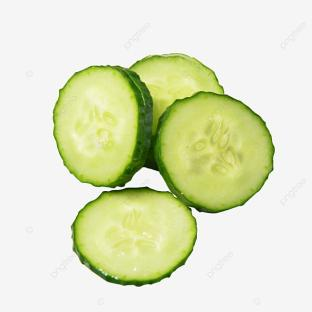Cucumber: (155, 92, 274, 212), (72, 188, 196, 286), (54, 66, 152, 187), (131, 54, 223, 136)
